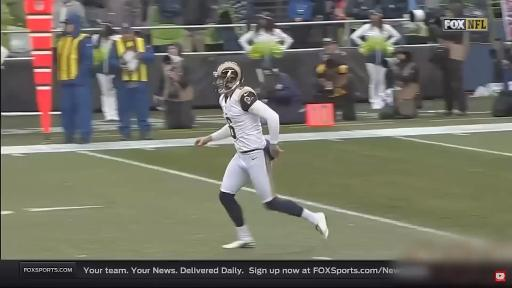Helmet: (214, 62, 243, 93)
Jersey: (220, 87, 266, 152)
Player: (195, 62, 328, 248)
